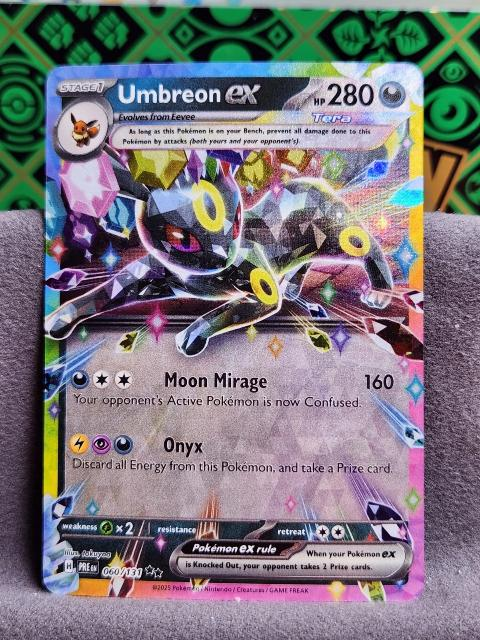Card: (38, 58, 432, 607)
Name: (113, 79, 267, 111)
